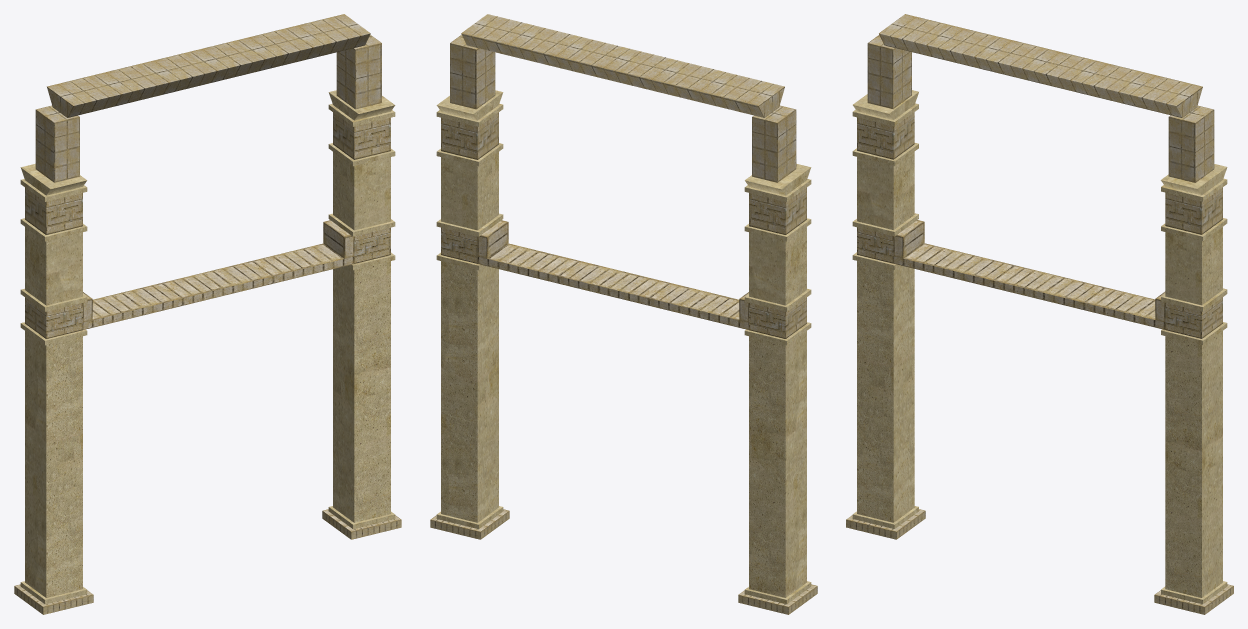
Rendered from tutorial_structure_pillar_walkway_exit.dae.
3 renders of one model, left to right at view 1: azimuth 30°, elevation 25°; view 2: azimuth 150°, elevation 25°; view 3: azimuth 330°, elevation 25°, orthographic.
Visible parts, largest first — view 1: tutorial_structure_pillar_walkway_exit; view 2: tutorial_structure_pillar_walkway_exit; view 3: tutorial_structure_pillar_walkway_exit.
Part boxes in pixels (x1=…): tutorial_structure_pillar_walkway_exit: x1=14, y1=14, x2=401, y2=614; tutorial_structure_pillar_walkway_exit: x1=430, y1=14, x2=817, y2=614; tutorial_structure_pillar_walkway_exit: x1=846, y1=14, x2=1233, y2=614.
Bounding box in the file's own units: 17.12 × 2.49 × 22.83.
5 materials, 5 textured.
